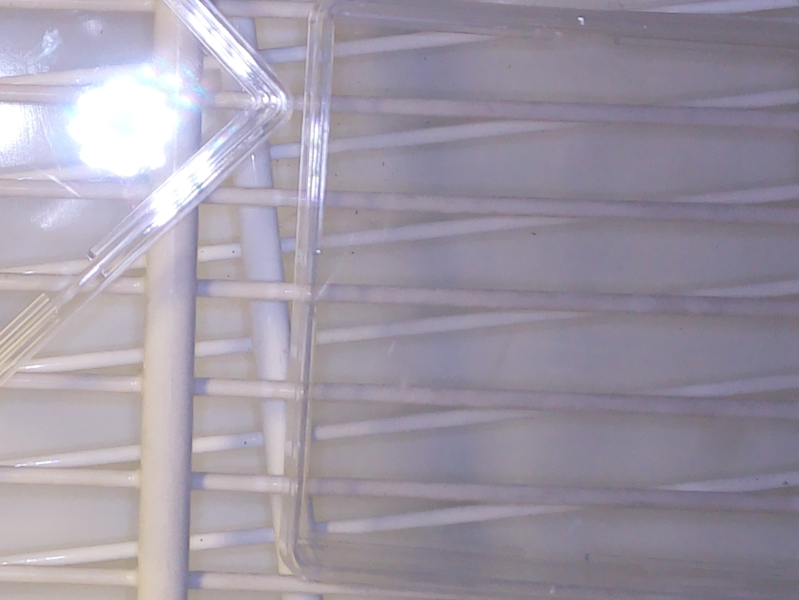plate: (276, 1, 799, 594), (1, 1, 295, 387)
